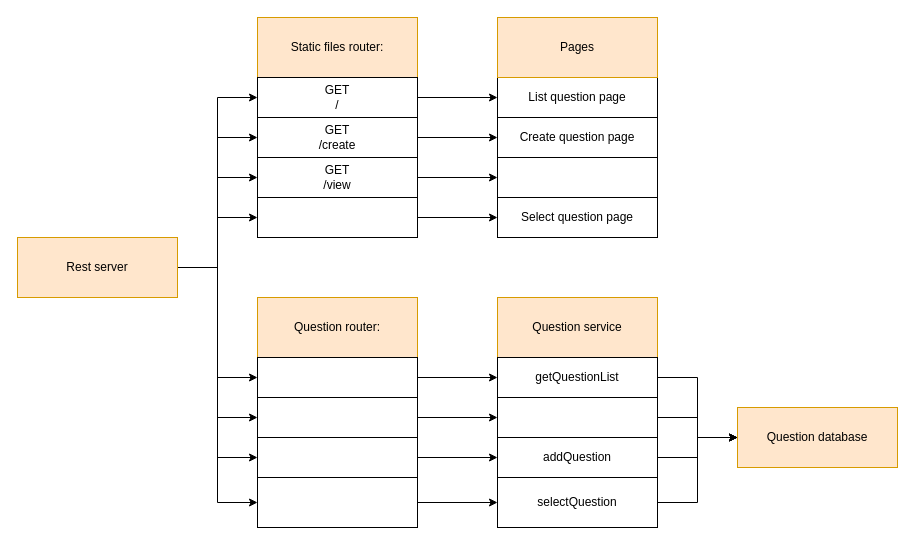
Some shapes in this 915 by 545 pixel diagram are drawn without their labels. The centre of each missing label's shape, as x and y in pixels:
"GET /question" belongs at (x=337, y=377).
"GET /question/:id" belongs at (x=337, y=417).
"GET /select" belongs at (x=337, y=217).
"getQuestion" belongs at (x=577, y=417).
"PATCH /question" belongs at (x=337, y=502).
"POST /question" belongs at (x=337, y=457).
"View question page" belongs at (x=577, y=177).
